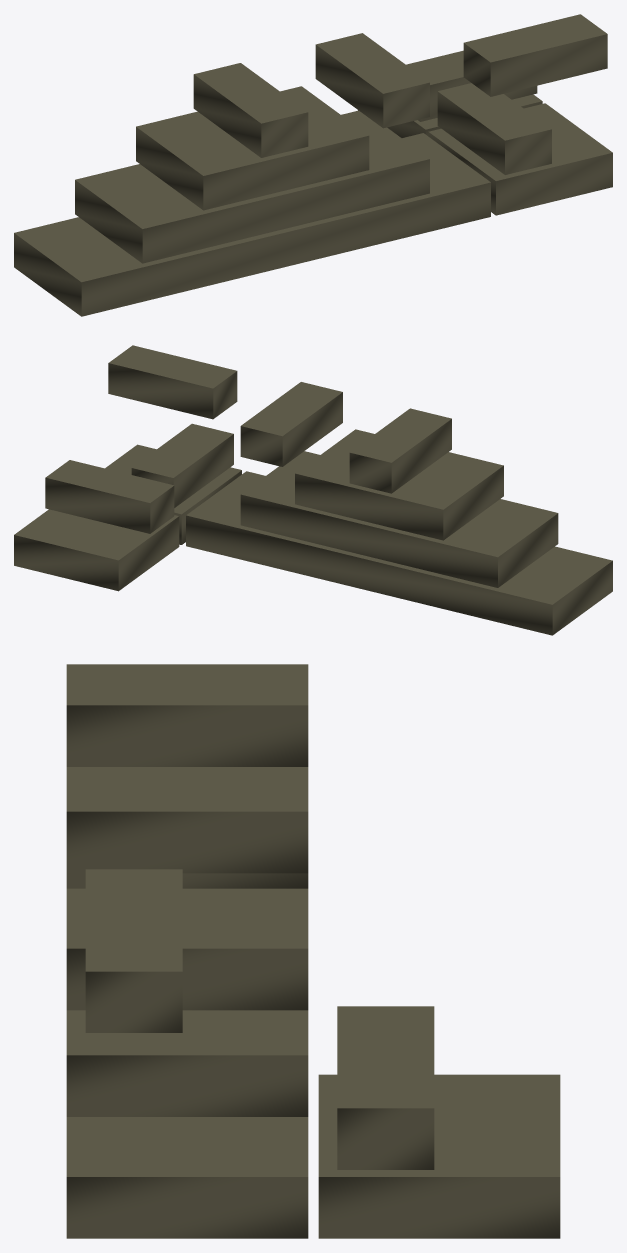
File: SM_SacosRemateEspejo_v1_Talud_e0_Sano_LOD1.fbx
3 views of the same model, one above another, from view 1: azimuth 30°, elevation 25°; view 2: azimuth 150°, elevation 25°; view 3: azimuth 270°, elevation 25° (orthographic). The views are drawn at different scales.
Parts seen in each view (by area): view 1: SM_sacos_piezas_v24_LOD1; view 2: SM_sacos_piezas_v24_LOD1; view 3: SM_sacos_piezas_v24_LOD1.
Boxes of the visible parts, <box> form: SM_sacos_piezas_v24_LOD1: <box>14,14,612,316</box>; SM_sacos_piezas_v24_LOD1: <box>14,345,612,635</box>; SM_sacos_piezas_v24_LOD1: <box>66,664,560,1238</box>.
Bounding box in the file's own units: 4.36 × 1.17 × 1.96.
